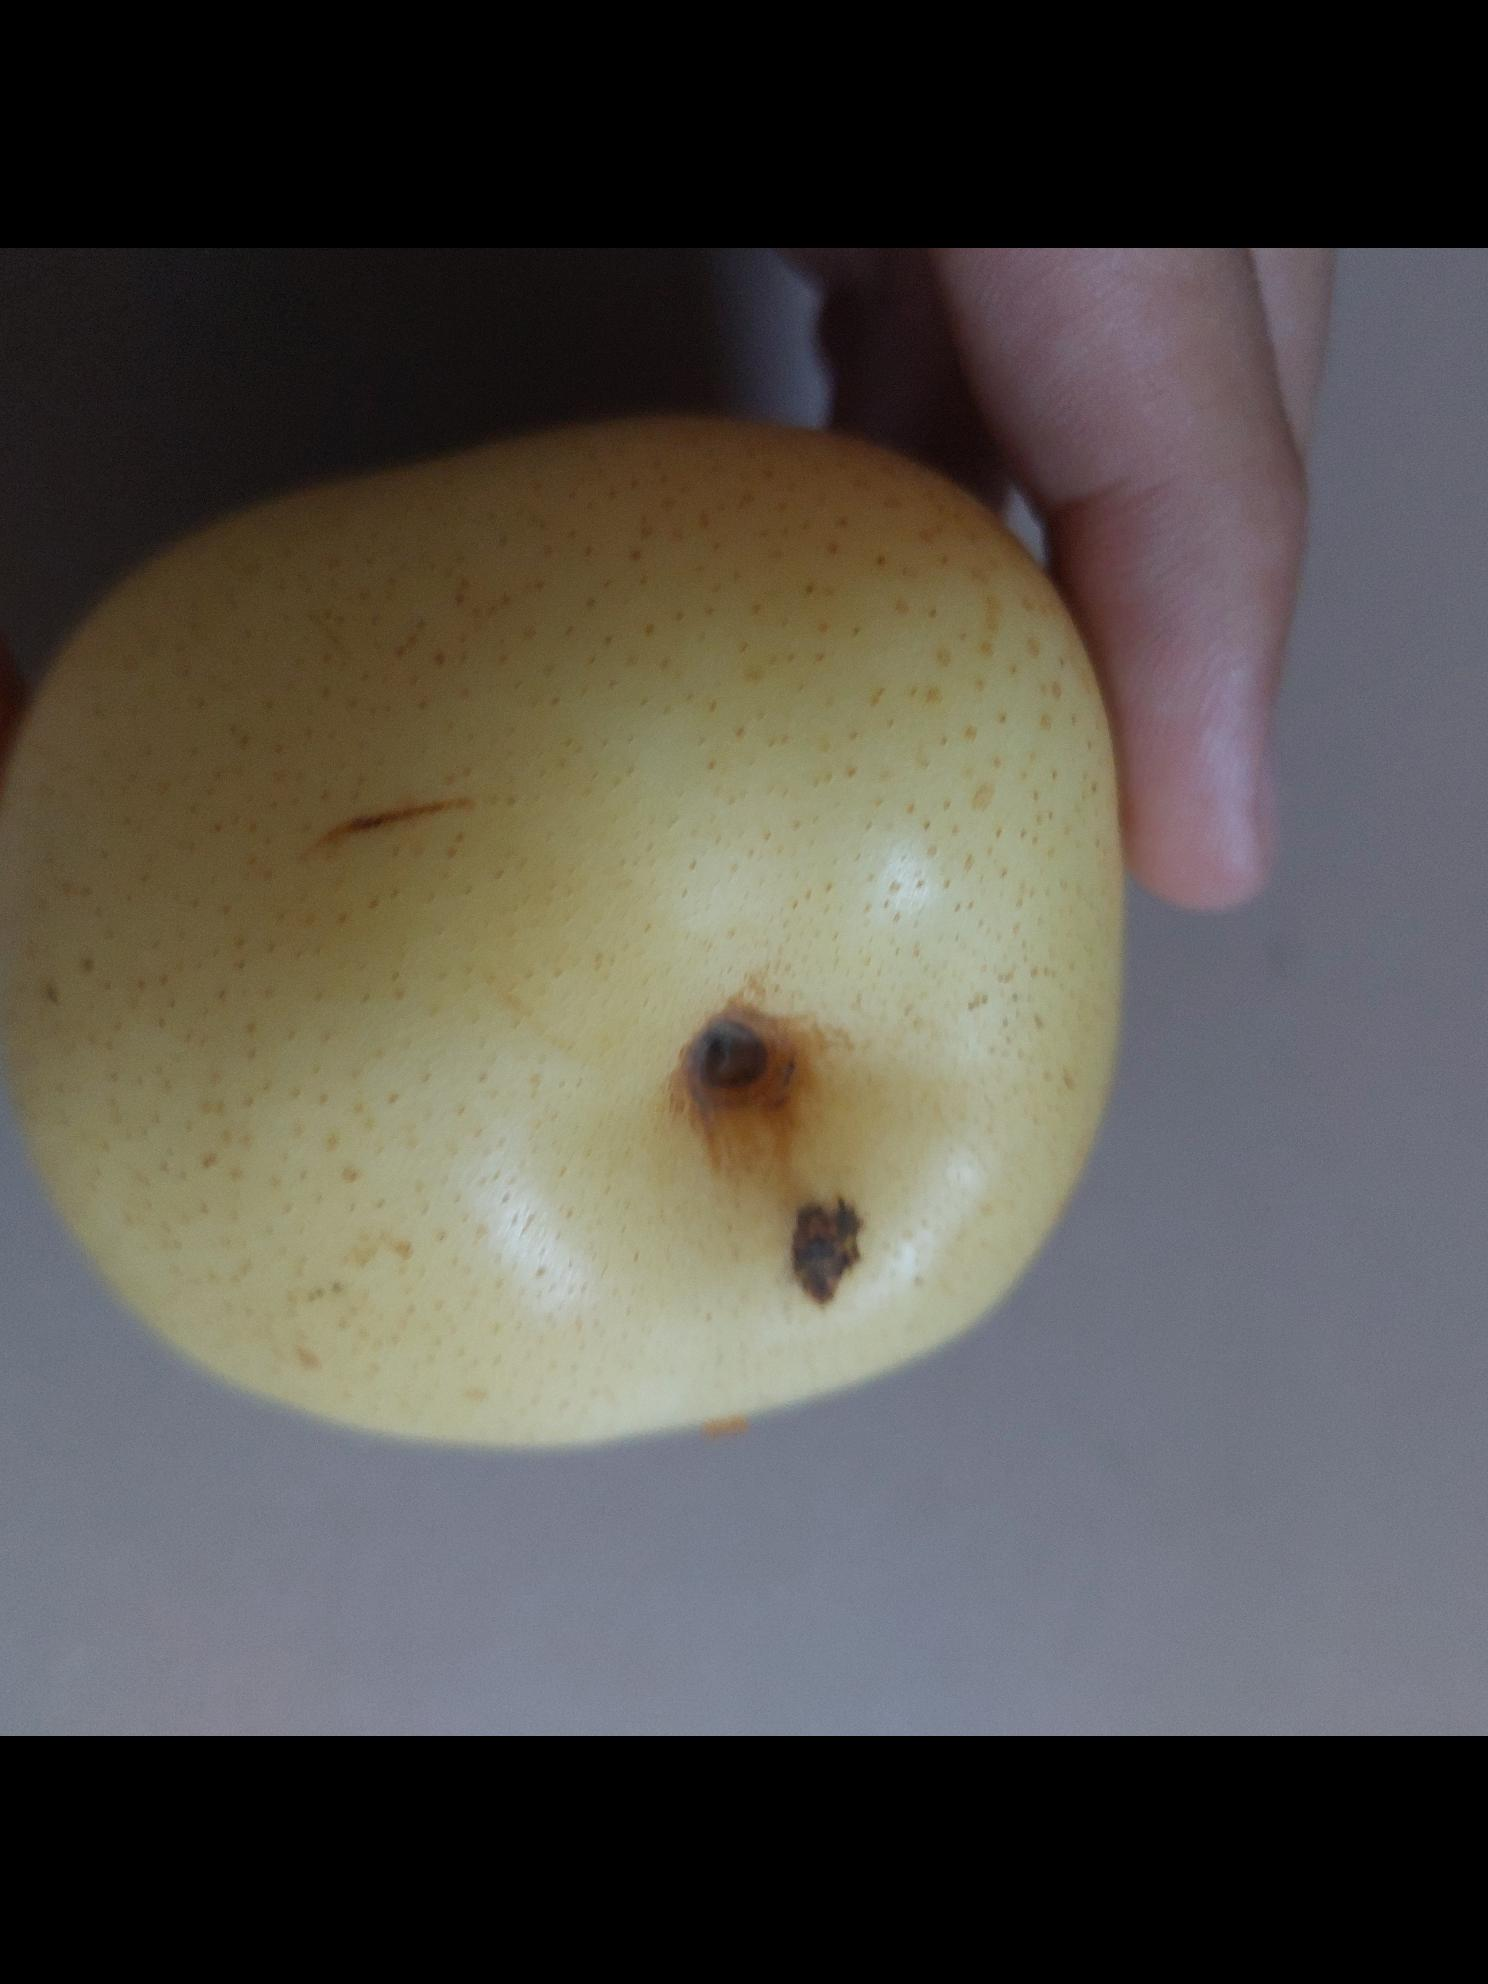Good Pear: (0, 403, 1122, 1468)
